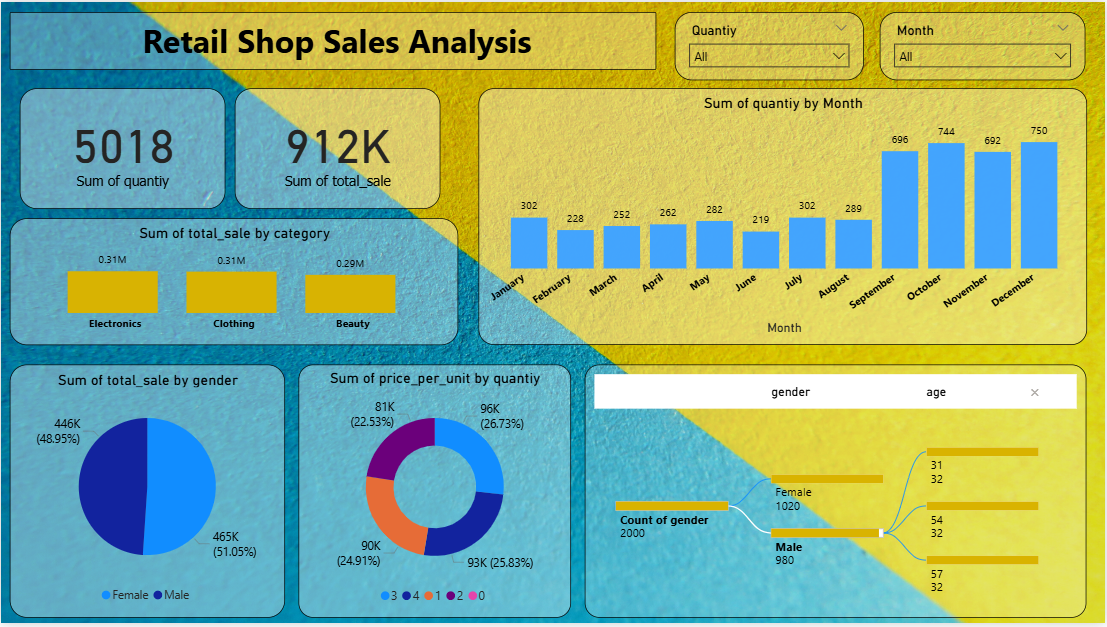

This screenshot's page, from the dashboard's own definition file:
{"tool":"powerbi","page":{"name":"Page 1","canvas":[1280,720],"ordinal":0},"visuals":[{"type":"textbox","box":[9.6,11,749.2,67.2],"z":0},{"type":"card","fields":{"Values":["Sum(SQL - Retail Sales Analysis_utf (2).quantiy)"]},"box":[22,100.2,238.8,140],"z":1000},{"type":"slicer","fields":{"Values":["SQL - Retail Sales Analysis_utf (2).quantiy"]},"box":[780.8,11,219.6,79.6],"z":2000},{"type":"slicer","fields":{"Values":["SQL - Retail Sales Analysis_utf (2).sale_date.Variation.Date Hierarchy.Month"]},"box":[1019.6,11,238.8,79.6],"z":3000},{"type":"card","fields":{"Values":["Sum(SQL - Retail Sales Analysis_utf (2).total_sale)"]},"box":[270.3,100.2,238.8,140],"z":4000},{"type":"columnChart","fields":{"Y":["Sum(SQL - Retail Sales Analysis_utf (2).quantiy)"],"Category":["SQL - Retail Sales Analysis_utf (2).sale_date.Variation.Date Hierarchy.Month"]},"box":[553,100.2,705.3,297.8],"z":5000},{"type":"pieChart","fields":{"Y":["Sum(SQL - Retail Sales Analysis_utf (2).total_sale)"],"Category":["SQL - Retail Sales Analysis_utf (2).gender"]},"box":[9.8,419.6,319,293.3],"z":6000},{"type":"columnChart","fields":{"Y":["Sum(SQL - Retail Sales Analysis_utf (2).total_sale)"],"Category":["SQL - Retail Sales Analysis_utf (2).category"]},"box":[9.6,251.1,520.1,146.8],"z":7000},{"type":"donutChart","fields":{"Y":["Sum(SQL - Retail Sales Analysis_utf (2).price_per_unit)"],"Category":["SQL - Retail Sales Analysis_utf (2).quantiy"]},"box":[344.4,419.9,315.6,293.7],"z":8000},{"type":"decompositionTreeVisual","fields":{"ExplainBy":["SQL - Retail Sales Analysis_utf (2).gender","SQL - Retail Sales Analysis_utf (2).age"],"Analyze":["CountNonNull(SQL - Retail Sales Analysis_utf (2).gender)"]},"box":[676.5,419.9,581.8,293.7],"z":9000}]}

Visuals, with their boxes in screenshot pixels (x1, y1, x2, y2), scaled from the page's 1280x720 canvas onto the 1107x627 screenshot:
textbox: left=8, top=10, right=656, bottom=68
card - Sum(SQL - Retail Sales Analysis_utf (2).quantiy): left=19, top=87, right=226, bottom=209
slicer - SQL - Retail Sales Analysis_utf (2).quantiy: left=675, top=10, right=865, bottom=79
slicer - SQL - Retail Sales Analysis_utf (2).sale_date.Variation.Date Hierarchy.Month: left=882, top=10, right=1088, bottom=79
card - Sum(SQL - Retail Sales Analysis_utf (2).total_sale): left=234, top=87, right=440, bottom=209
columnChart - Sum(SQL - Retail Sales Analysis_utf (2).quantiy) x SQL - Retail Sales Analysis_utf (2).sale_date.Variation.Date Hierarchy.Month: left=478, top=87, right=1088, bottom=347
pieChart - Sum(SQL - Retail Sales Analysis_utf (2).total_sale) x SQL - Retail Sales Analysis_utf (2).gender: left=8, top=365, right=284, bottom=621
columnChart - Sum(SQL - Retail Sales Analysis_utf (2).total_sale) x SQL - Retail Sales Analysis_utf (2).category: left=8, top=219, right=458, bottom=347
donutChart - Sum(SQL - Retail Sales Analysis_utf (2).price_per_unit) x SQL - Retail Sales Analysis_utf (2).quantiy: left=298, top=366, right=571, bottom=621
decompositionTreeVisual - SQL - Retail Sales Analysis_utf (2).gender x SQL - Retail Sales Analysis_utf (2).age: left=585, top=366, right=1088, bottom=621
